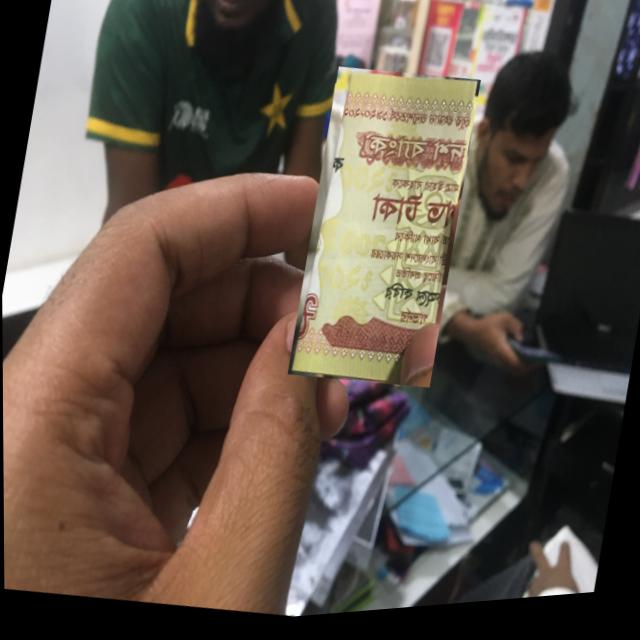Taka: (285, 63, 481, 404)
